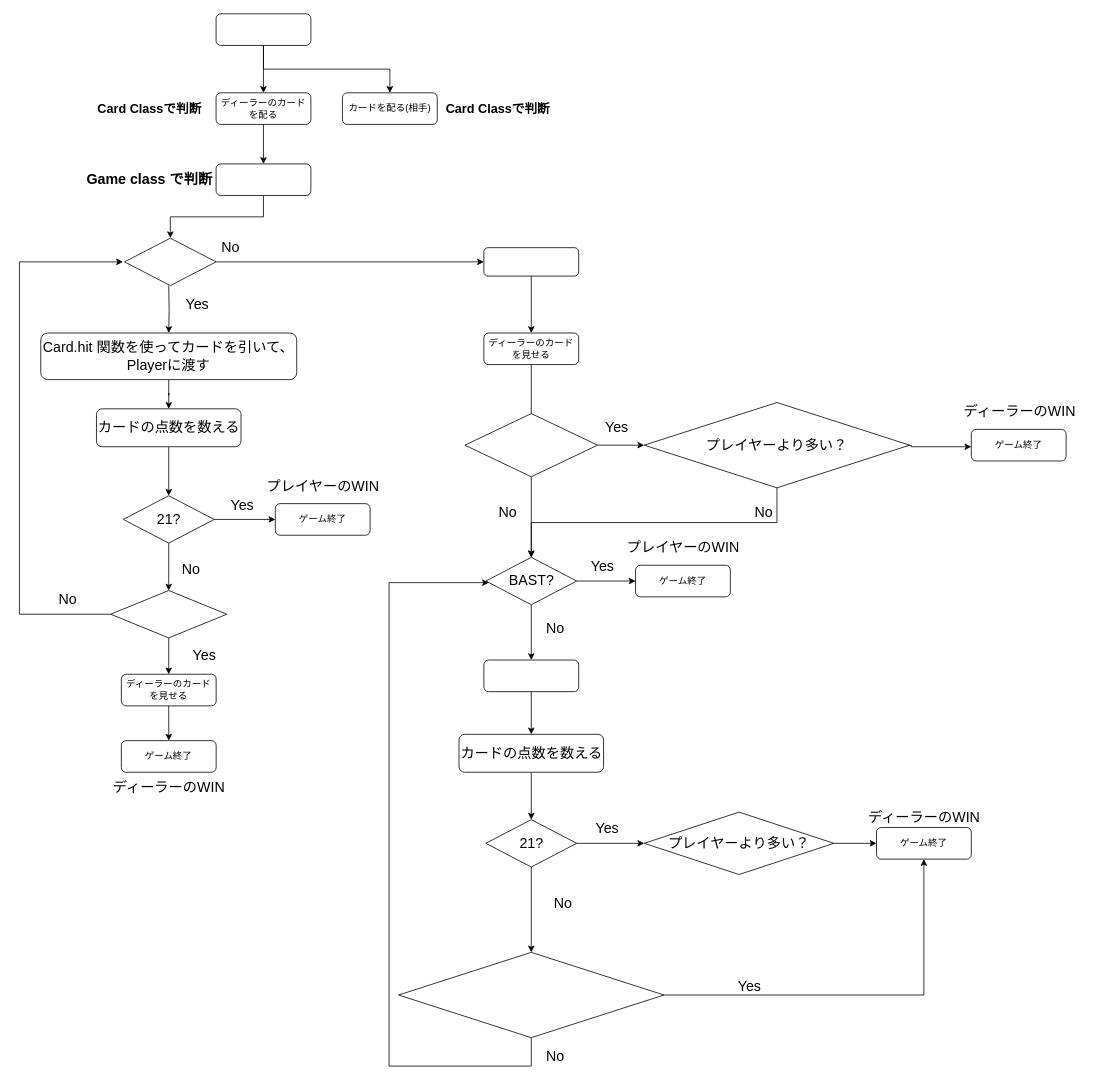
The diagram is 1095 pixels wide and 1086 high, and some of its shapes have lost their labels. Here are the shapes that lost their labels. From the top down, the centre of each, then its label:
(x=263, y=29): ゲーム開始
(x=263, y=179): 一枚目のカードを 見せる
(x=170, y=261): HIT
(x=531, y=261): STAND
(x=531, y=445): 17以上?
(x=168, y=614): BAST？
(x=531, y=675): ディーラー カードを引く
(x=531, y=995): プレイヤーより多い？ and 17以上？
